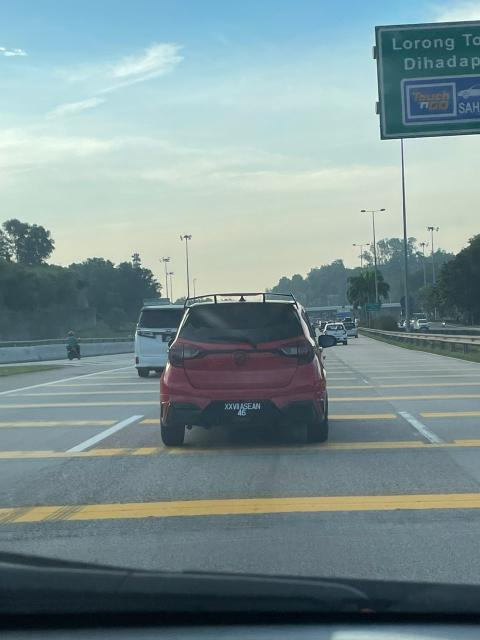License_Plate: (211, 396, 269, 425)
car: (158, 298, 335, 448)
